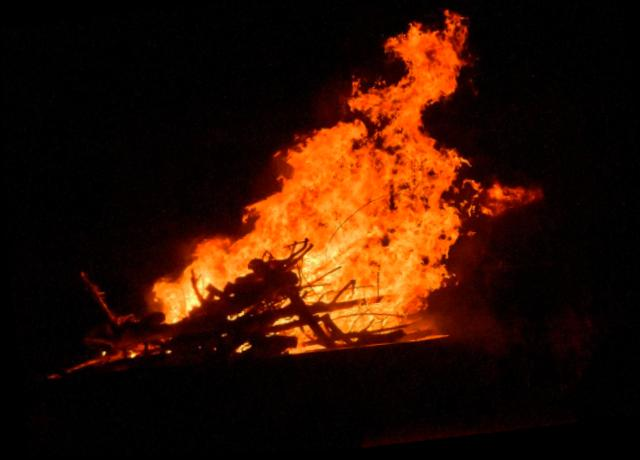fire: (83, 4, 555, 389)
